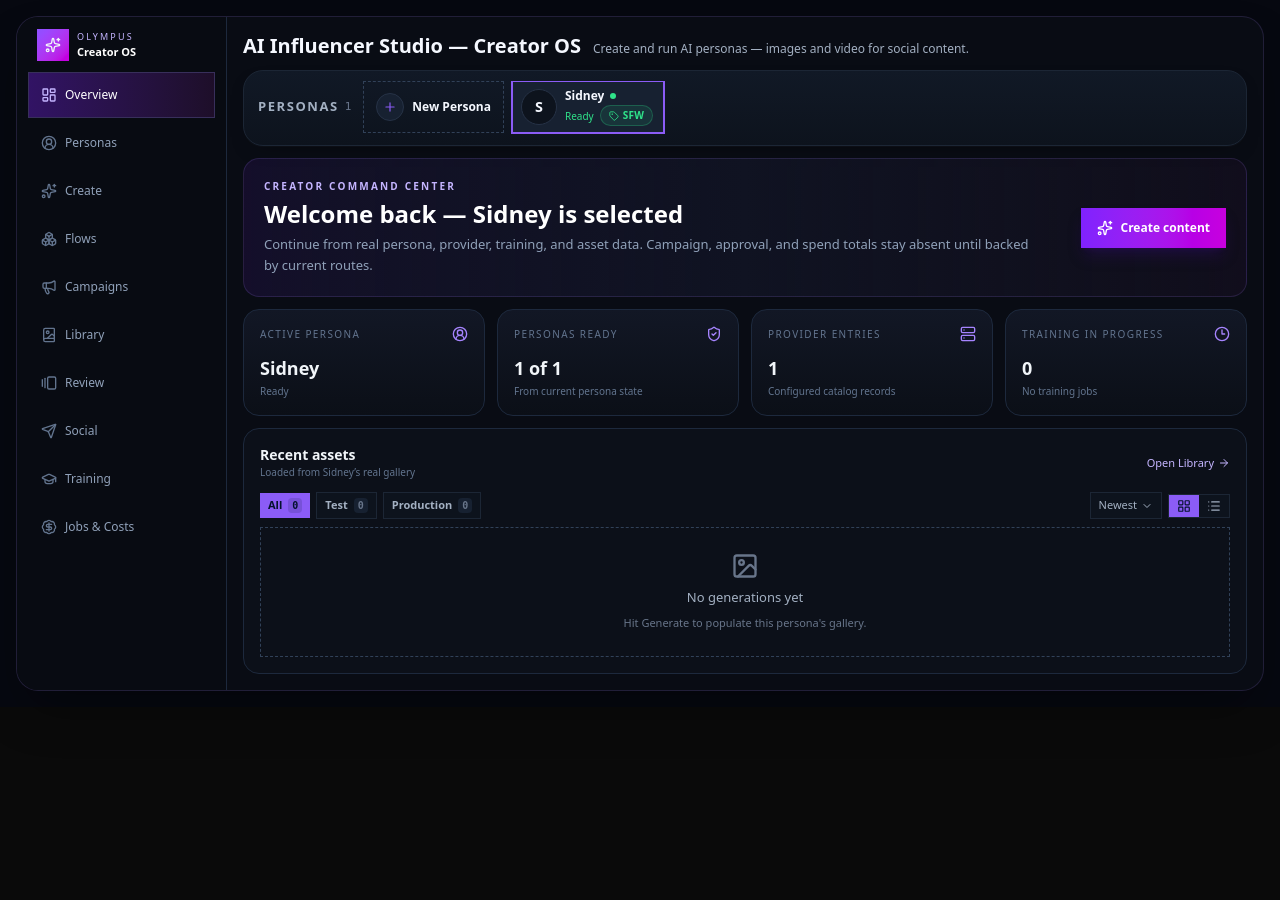
Test: Image Studio focused UI repairs › keeps global personas read-only in operational lanes
Click the button with test id "creator-nav-flows": point(122, 239) [29,217,214,261]
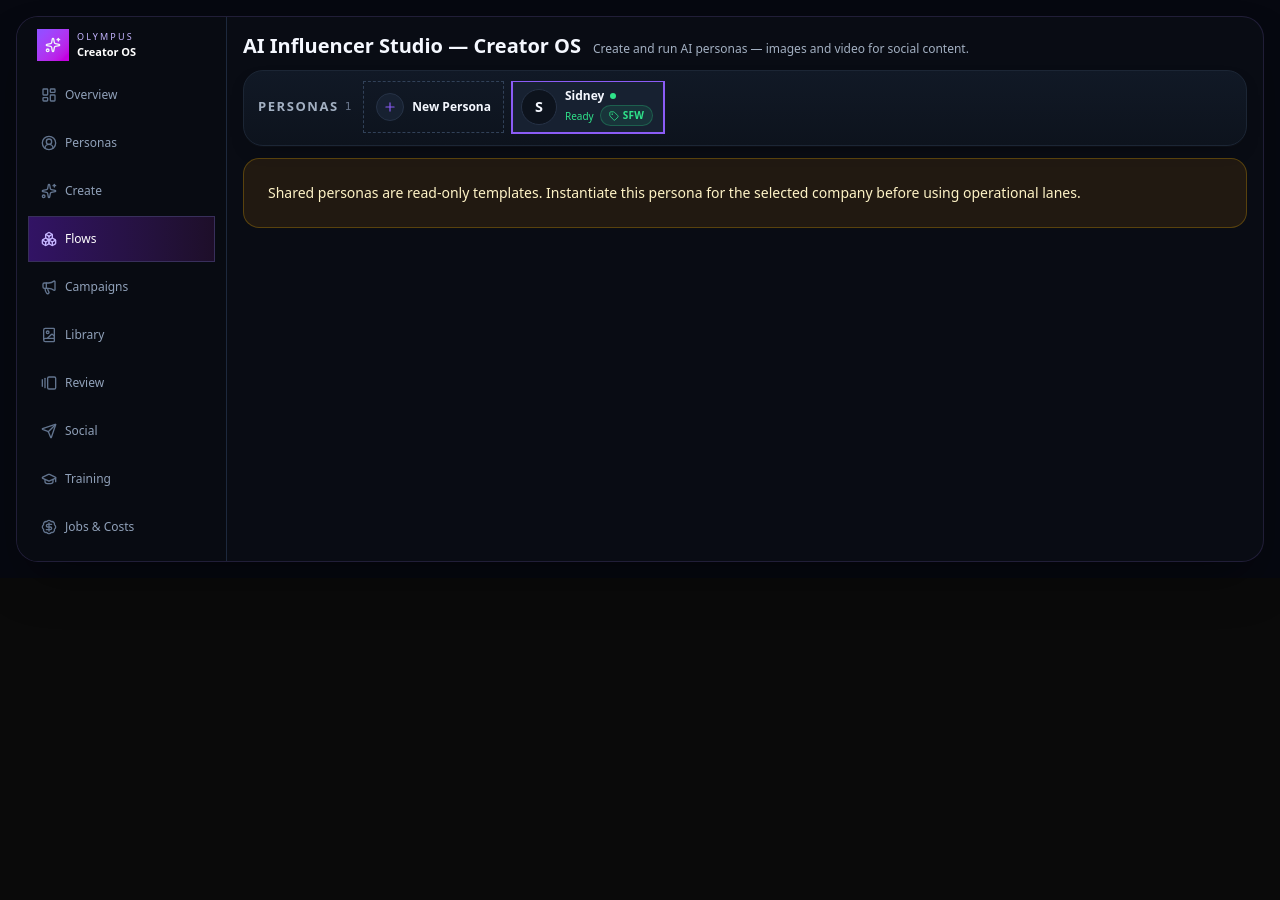
Expected: the text "read-only templates" is shown, [268,183,1081,202]
